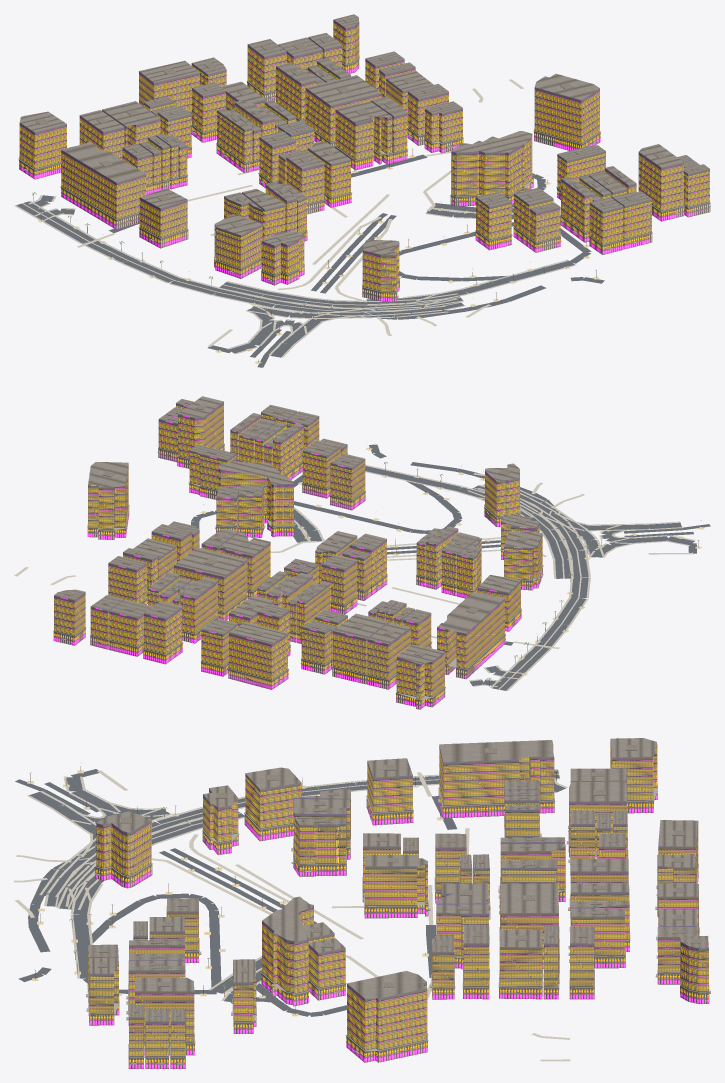
The model's file is urban-sw-stage6.glb.
The picture shows the model from 3 angles, top to bottom: view 1: azimuth 30°, elevation 25°; view 2: azimuth 150°, elevation 25°; view 3: azimuth 270°, elevation 25°; orthographic projection. The views are drawn at different scales.
Parts seen in each view (by area): view 1: urban-street-sw-roads, urban-street-sw-sidewalks, urban-hotel-2314-SW314, urban-hotel-2367-SW367, urban-hotel-2371-SW371, urban-hotel-2354-SW354, urban-hotel-2377-SW377, urban-hotel-2310-SW310, urban-hotel-2353-SW353, urban-hotel-2318-SW318, urban-hotel-2315-SW315, urban-hotel-2396-SW396 (+38 smaller); view 2: urban-street-sw-roads, urban-hotel-2314-SW314, urban-street-sw-sidewalks, urban-hotel-2308-SW308, urban-hotel-2371-SW371, urban-hotel-2367-SW367, urban-hotel-2353-SW353, urban-hotel-2310-SW310, urban-hotel-2334-SW334, urban-hotel-2377-SW377, urban-hotel-2305-SW305, urban-hotel-2332-SW332 (+41 smaller); view 3: urban-street-sw-roads, urban-hotel-2314-SW314, urban-hotel-2371-SW371, urban-hotel-2367-SW367, urban-street-sw-sidewalks, urban-hotel-2345-SW345, urban-hotel-2396-SW396, urban-hotel-2318-SW318, urban-hotel-2362-SW362, urban-hotel-2323-SW323, urban-hotel-2315-SW315, urban-hotel-2353-SW353 (+43 smaller).
Boxes of the visible parts, <box> form: urban-street-sw-roads: <box>16,154,604,367</box>; urban-street-sw-sidewalks: <box>14,195,576,357</box>; urban-hotel-2314-SW314: <box>60,142,145,229</box>; urban-hotel-2367-SW367: <box>450,131,534,206</box>; urban-hotel-2371-SW371: <box>533,73,600,150</box>; urban-hotel-2354-SW354: <box>334,101,393,170</box>; urban-hotel-2377-SW377: <box>638,144,684,221</box>; urban-hotel-2310-SW310: <box>18,111,66,179</box>; urban-hotel-2353-SW353: <box>305,75,381,147</box>; urban-hotel-2318-SW318: <box>213,214,262,278</box>; urban-hotel-2315-SW315: <box>138,188,188,248</box>; urban-hotel-2396-SW396: <box>362,239,400,302</box>; urban-street-sw-roads: <box>191,444,710,690</box>; urban-hotel-2314-SW314: <box>437,592,505,679</box>; urban-street-sw-sidewalks: <box>294,464,695,690</box>; urban-hotel-2308-SW308: <box>228,622,288,689</box>; urban-hotel-2371-SW371: <box>87,462,129,539</box>; urban-hotel-2367-SW367: <box>218,461,294,537</box>; urban-hotel-2353-SW353: <box>174,547,248,620</box>; urban-hotel-2310-SW310: <box>396,644,445,709</box>; urban-hotel-2334-SW334: <box>332,613,388,684</box>; urban-hotel-2377-SW377: <box>177,396,224,468</box>; urban-hotel-2305-SW305: <box>143,601,183,664</box>; urban-hotel-2332-SW332: <box>366,622,410,689</box>; urban-street-sw-roads: <box>15,769,565,1016</box>; urban-hotel-2314-SW314: <box>437,740,555,818</box>; urban-hotel-2371-SW371: <box>345,971,428,1062</box>; urban-hotel-2367-SW367: <box>261,896,313,1006</box>; urban-street-sw-sidewalks: <box>27,769,567,1000</box>; urban-hotel-2345-SW345: <box>363,854,430,918</box>; urban-hotel-2396-SW396: <box>95,811,152,888</box>; urban-hotel-2318-SW318: <box>244,767,301,841</box>; urban-hotel-2362-SW362: <box>498,929,543,999</box>; urban-hotel-2323-SW323: <box>294,818,346,876</box>; urban-hotel-2315-SW315: <box>366,758,413,825</box>; urban-hotel-2353-SW353: <box>499,883,559,968</box>.
Bounding box in the file's own units: 493 × 49.18 × 482.
Materials: 8 (1 with a texture image).
